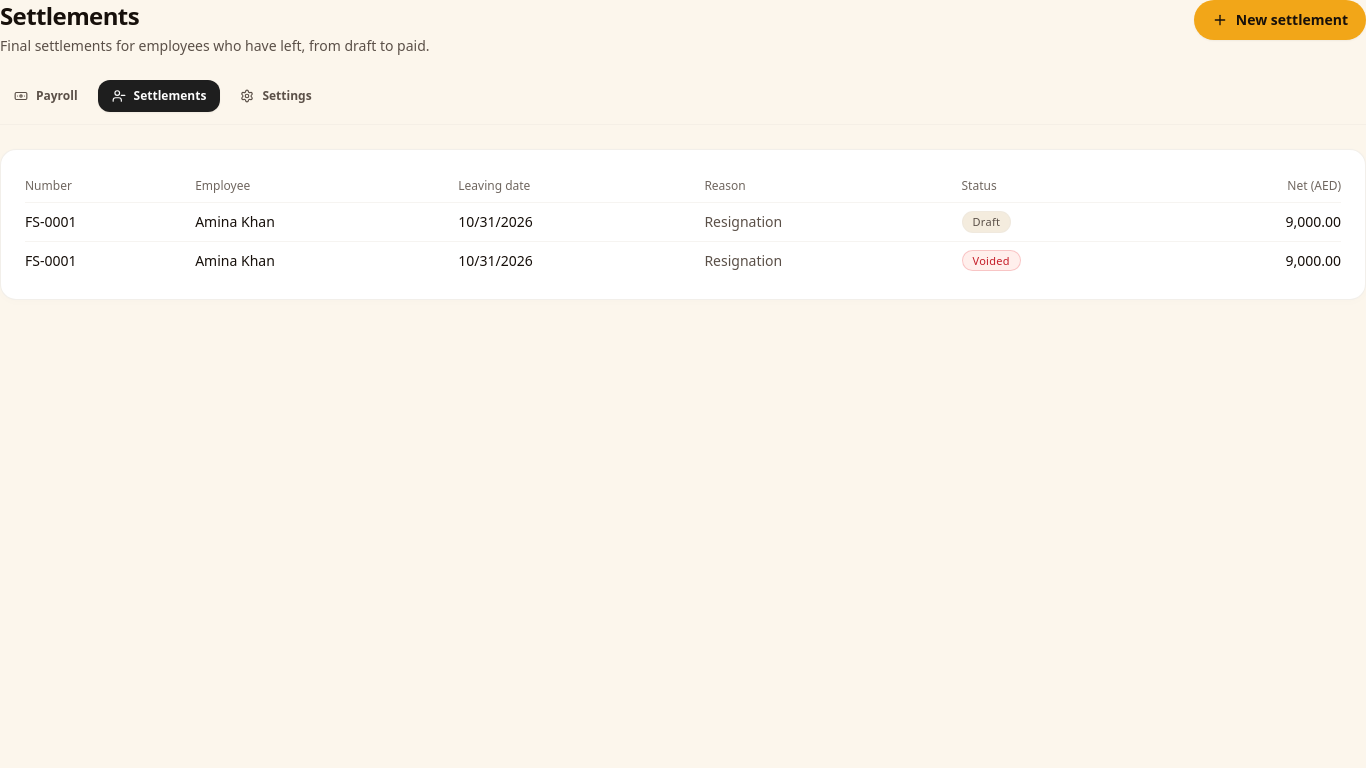
Test: SettlementsView › offers only leavers without a live settlement and shows a server refusal inline
Click the button "New settlement" at [1280, 20], box [1194,0,1365,40]
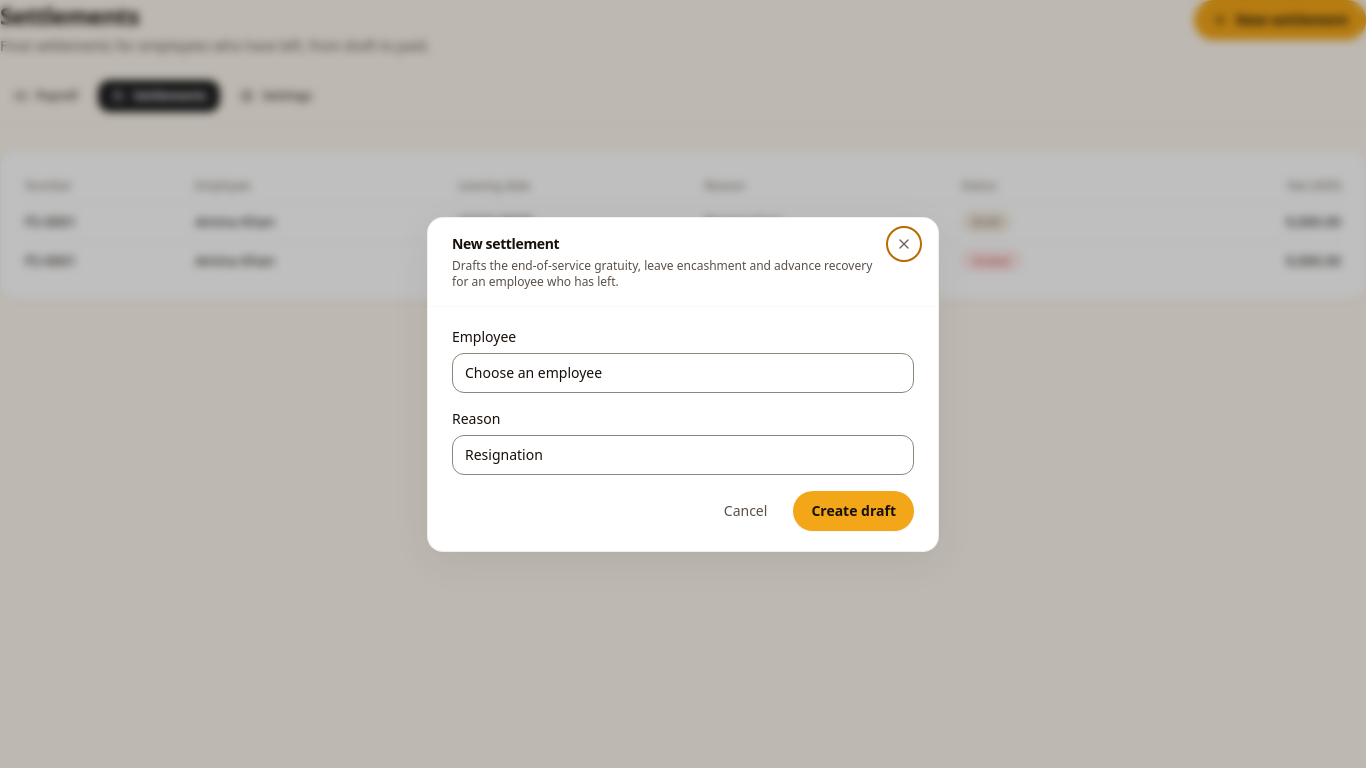
Select "Omar Ali (EMP-e2)" in the dropdown labelled "Employee" at [683, 372], box [452,352,914,392]
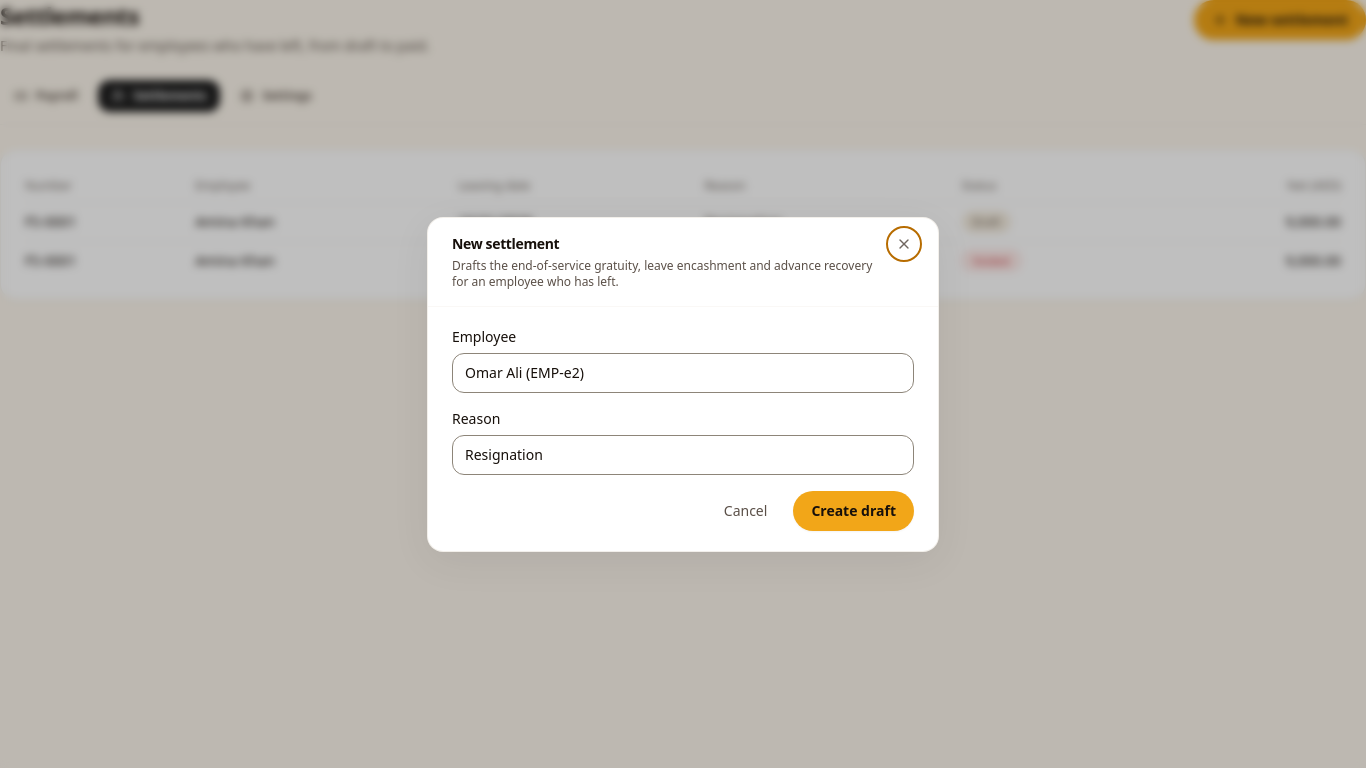
Submit the form with test id "new-settlement-form", box [452,326,914,530]
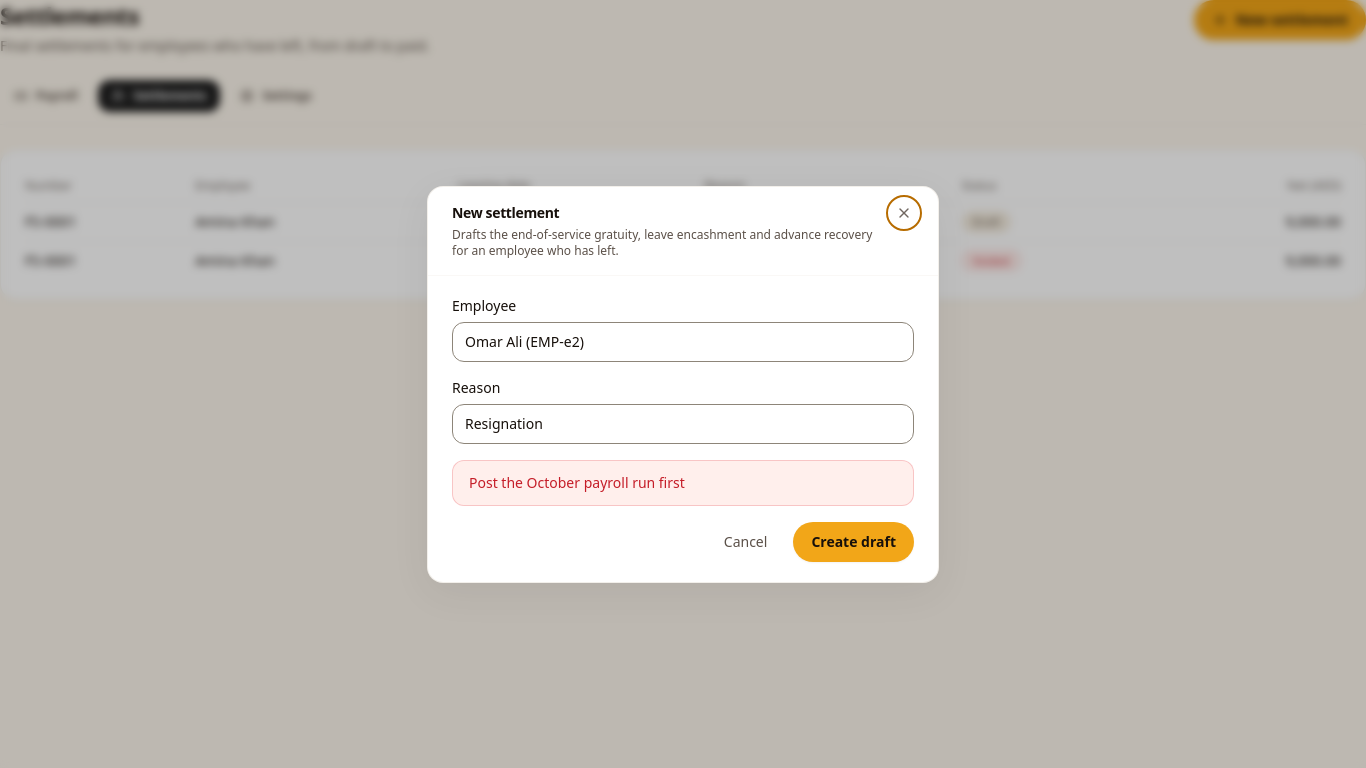
Expected: the message reads "Post the October payroll run first", [469,472,685,492]
